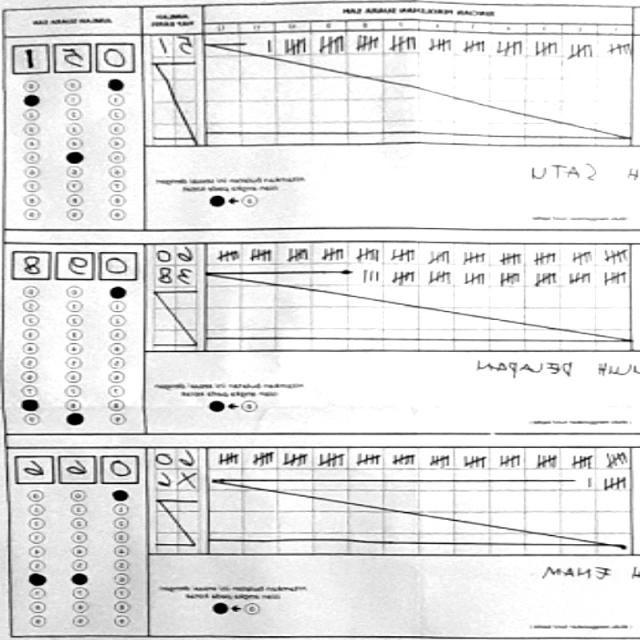Suara: (11, 447, 148, 488), (12, 249, 143, 282), (18, 38, 138, 73)
